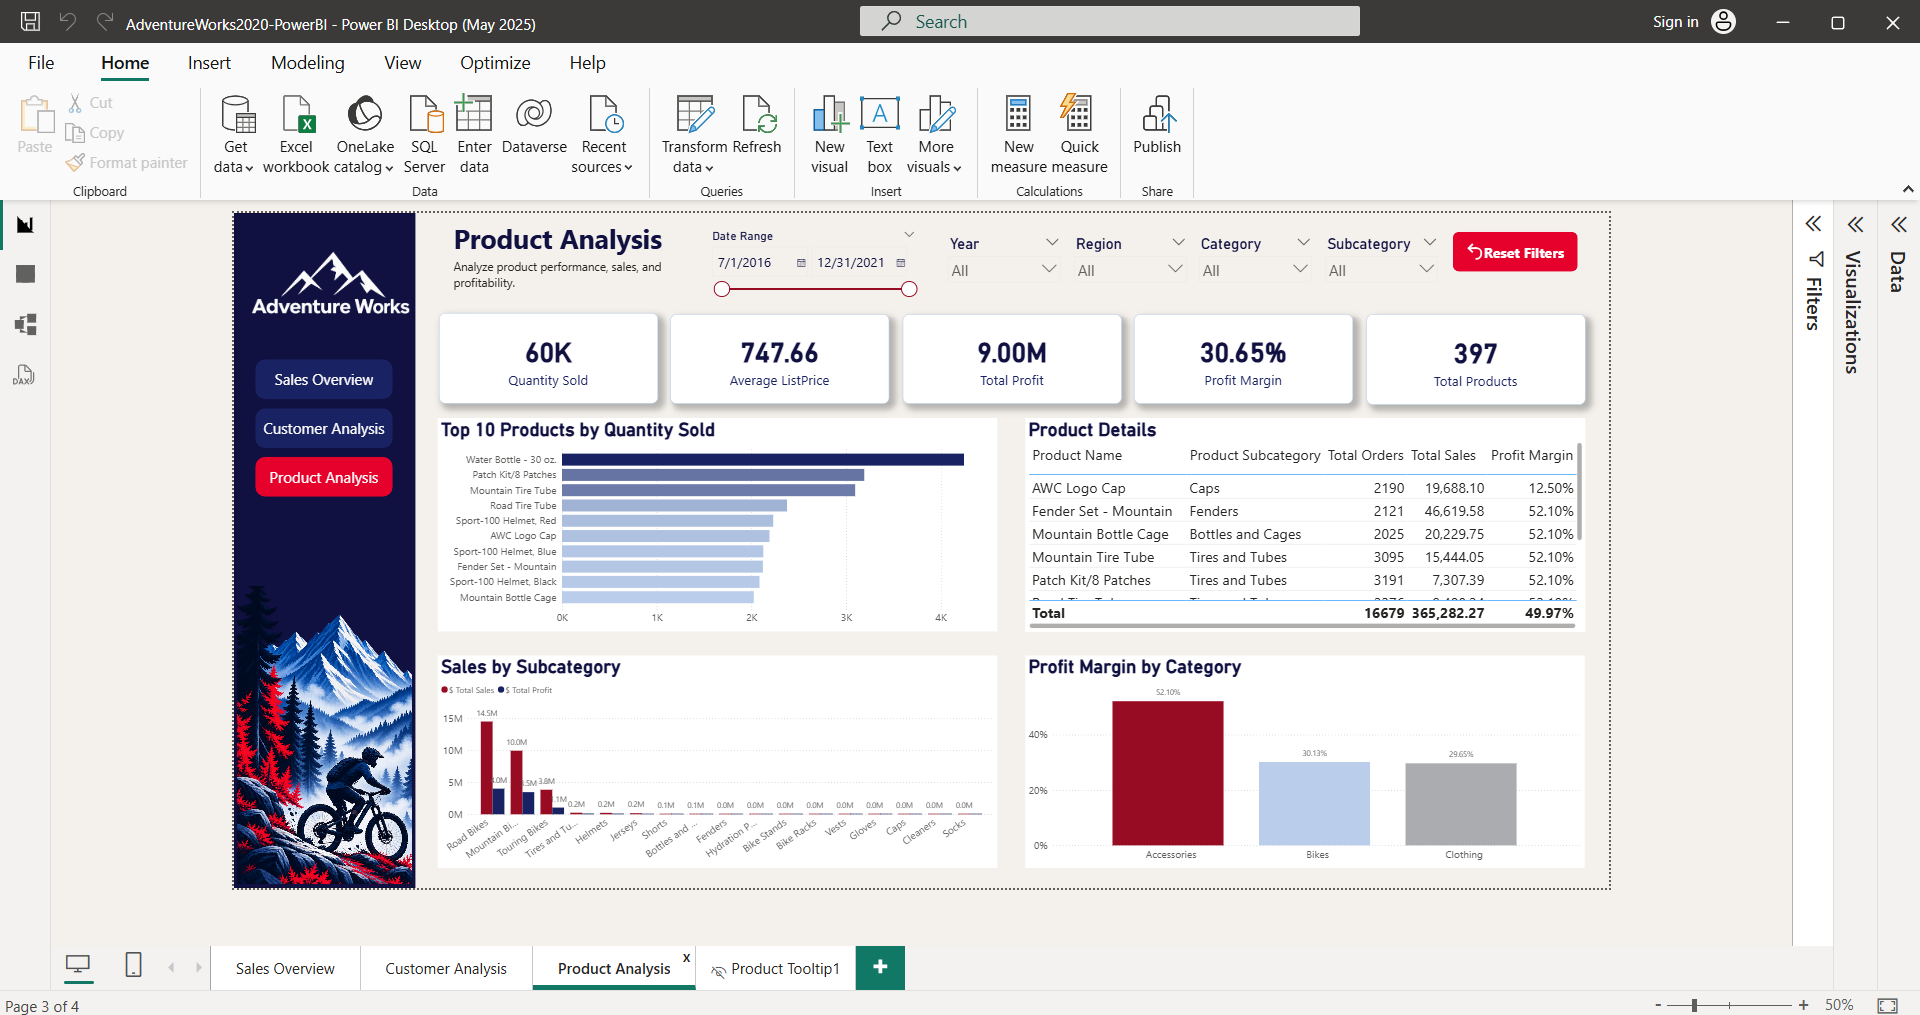

This screenshot's page, from the dashboard's own definition file:
{"tool":"powerbi","page":{"name":"Product Analysis","canvas":[2200,1080],"ordinal":2},"visuals":[{"type":"image","box":[0,0,289,200.4],"z":0},{"type":"shape","box":[0,0,290,1080],"z":1000},{"type":"textbox","box":[345,6.4,406.8,87.3],"z":3000},{"type":"textbox","box":[345,68.2,406.8,63.9],"z":4000},{"type":"card","fields":{"Values":["My Measures.# Quantity Sold"]},"box":[327.4,159.7,350,144.8],"z":6000},{"type":"card","fields":{"Values":["My Measures.$ Average ListPrice"]},"box":[698.5,162.7,350,143.1],"z":8000},{"type":"card","fields":{"Values":["My Measures.$ Total Profit"]},"box":[1069.6,162.7,350,143.1],"z":10000},{"type":"card","fields":{"Values":["My Measures.% Profit Margin"]},"box":[1440.7,162.7,350,143.1],"z":12000},{"type":"card","fields":{"Values":["My Measures.# Total Products"]},"box":[1811.9,161.8,350,144.8],"z":14000},{"type":"slicer","fields":{"Values":["Calendar.Date"]},"box":[751.8,19.2,349.3,161.9],"z":15000},{"type":"slicer","title":"Year","fields":{"Values":["Calendar.CalendarYear"]},"box":[1132.9,30.8,200,100],"z":16000},{"type":"slicer","title":"Year","fields":{"Values":["Territory.Region"]},"box":[1333.6,30.8,200,100],"z":17000},{"type":"slicer","title":"Year","fields":{"Values":["Budget.Category"]},"box":[1534.3,30.8,200,100],"z":18000},{"type":"slicer","title":"Year","fields":{"Values":["Products.SubCategory"]},"box":[1735.1,30.8,200,100],"z":19000},{"type":"actionButton","box":[1950.8,29.8,200.2,63.9],"z":20000},{"type":"image","box":[10,10,289,200.4],"z":21000},{"type":"image","box":[0,592.9,290,487],"z":22000},{"type":"clusteredBarChart","title":"Top 10 Products by Quantity Sold","fields":{"Y":["My Measures.# Quantity Sold"],"Category":["Products.ProductName"]},"box":[326.7,328.3,895,341.7],"z":23000},{"type":"clusteredColumnChart","title":"Sales by Subcategory","fields":{"Y":["My Measures.$ Total Sales","My Measures.$ Total Profit"],"Category":["dimProductSubCategory.EnglishProductSubcategoryName"]},"box":[326.7,708.3,895,340],"z":24000},{"type":"tableEx","title":"Product Details","fields":{"Values":["Products.ProductName","dimProductSubCategory.EnglishProductSubcategoryName","My Measures.# Total Orders","My Measures.$ Total Sales","My Measures.% Profit Margin"]},"box":[1266,328,896,342],"z":25000},{"type":"clusteredColumnChart","title":"Profit Margin by Category","fields":{"Category":["Products.Category"],"Y":["My Measures.% Profit Margin"]},"box":[1266.7,708.3,895,340],"z":26000},{"type":"pageNavigator","box":[34,234,220,222],"z":27000}]}

Visuals, with their boxes on the page's 2200x1080 design canvas (x1, y1, x2, y2). These are canvas units, not pixel positions in the 1920x1015 screenshot, which may show the page scaled, cropped or inside an application window:
image: 0 0 289 200
shape: 0 0 290 1080
textbox: 345 6 752 94
textbox: 345 68 752 132
card - My Measures.# Quantity Sold: 327 160 677 304
card - My Measures.$ Average ListPrice: 698 163 1048 306
card - My Measures.$ Total Profit: 1070 163 1420 306
card - My Measures.% Profit Margin: 1441 163 1791 306
card - My Measures.# Total Products: 1812 162 2162 307
slicer - Calendar.Date: 752 19 1101 181
"Year" slicer: 1133 31 1333 131
"Year" slicer: 1334 31 1534 131
"Year" slicer: 1534 31 1734 131
"Year" slicer: 1735 31 1935 131
actionButton: 1951 30 2151 94
image: 10 10 299 210
image: 0 593 290 1080
"Top 10 Products by Quantity Sold" clusteredBarChart: 327 328 1222 670
"Sales by Subcategory" clusteredColumnChart: 327 708 1222 1048
"Product Details" tableEx: 1266 328 2162 670
"Profit Margin by Category" clusteredColumnChart: 1267 708 2162 1048
pageNavigator: 34 234 254 456
